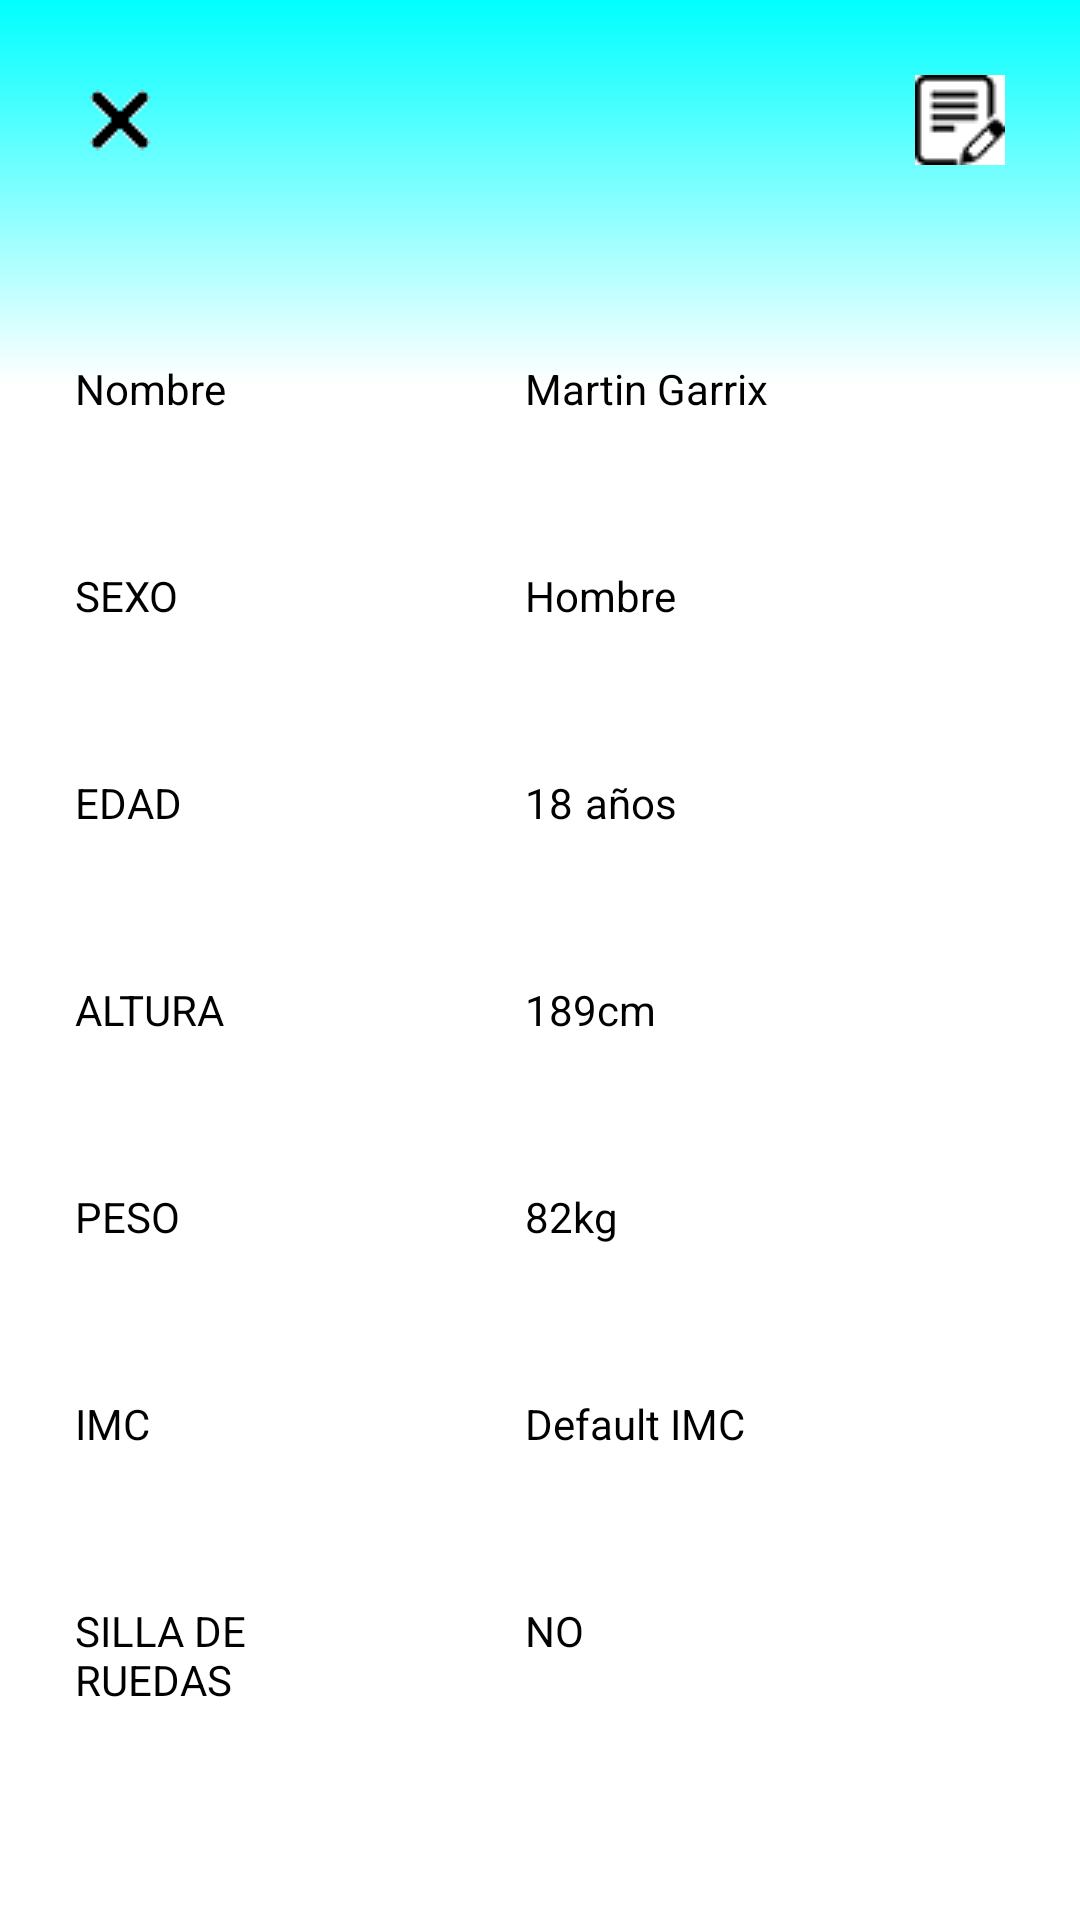

Screen size 1080*1920. Icon name, then its center in pixels as [x,y]:
edit: [960,120]
